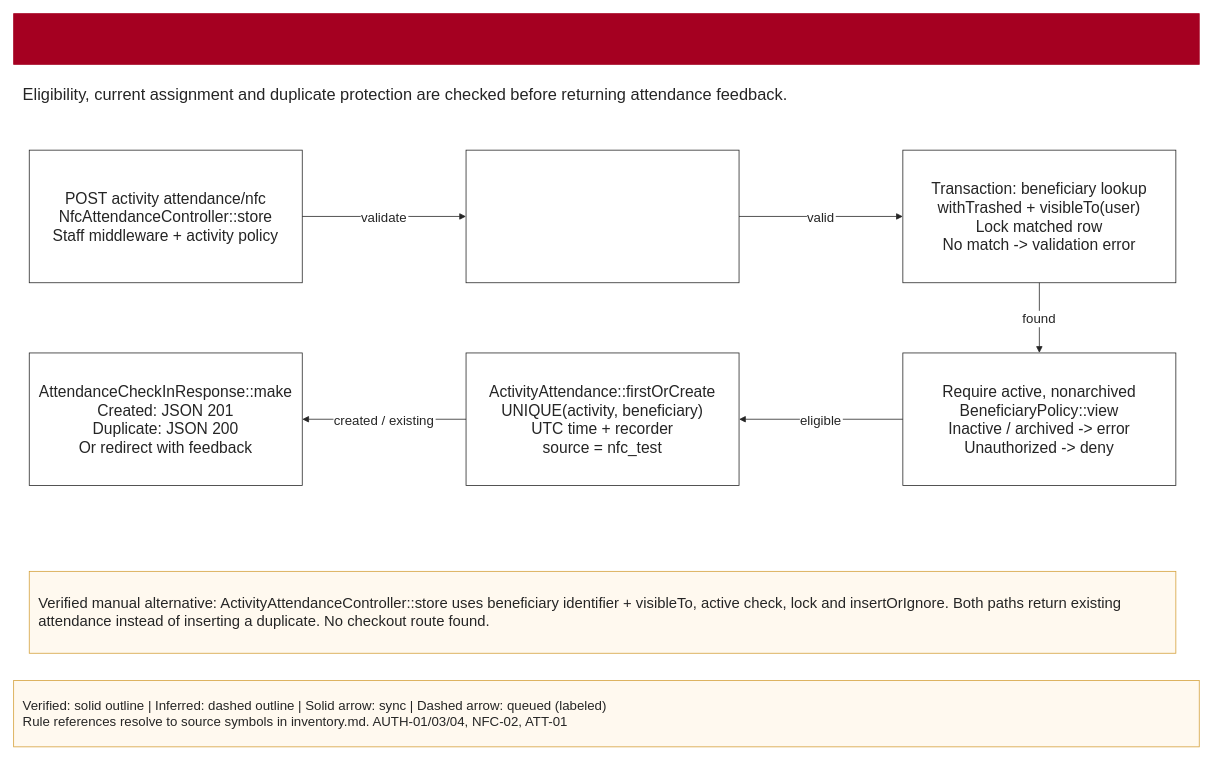
Some shapes in this 1213 by 761 pixel diagram are drawn without their labels. Here are the shapes that lost their labels. From the top down, the centre of each, then its label:
(606,38): 05A | NFC test-UID attendance
(602,216): NfcCardUid Normalize case/separators Validate supported UID format
